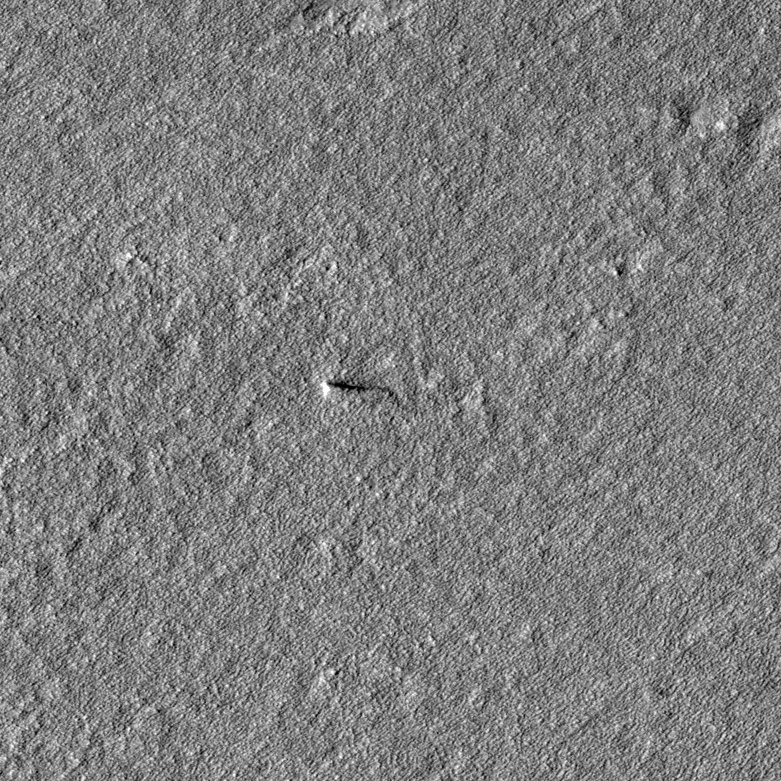dust_devil: (317, 379, 395, 401)
